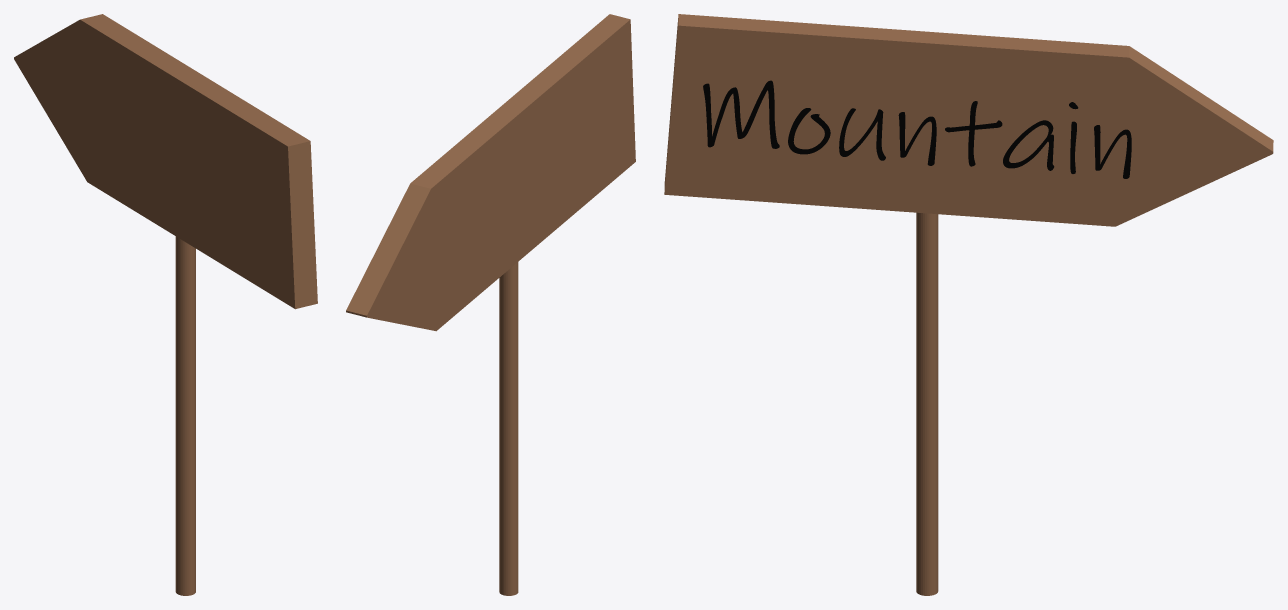
Rendered from montainsign.fbx.
3 views of the same model, side by side, from view 1: azimuth 30°, elevation 25°; view 2: azimuth 150°, elevation 25°; view 3: azimuth 270°, elevation 25° (orthographic). The views are drawn at different scales.
Parts seen in each view (by area): view 1: Cube, Cylinder; view 2: Cube, Cylinder; view 3: Cube, Cylinder, Text.
Boxes of the visible parts, bbox=[...] form: Cube: bbox=[14, 14, 317, 309]; Cylinder: bbox=[175, 236, 195, 595]; Cube: bbox=[346, 14, 635, 331]; Cylinder: bbox=[499, 262, 518, 595]; Cube: bbox=[664, 14, 1273, 226]; Cylinder: bbox=[916, 212, 938, 595]; Text: bbox=[703, 80, 1131, 178].
Size of the model in its own units: 19.72 by 317 by 307.
